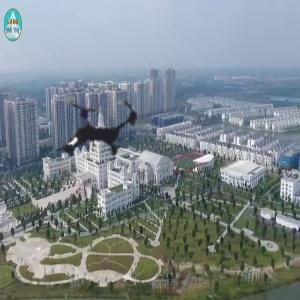drone: (24, 56, 170, 202)
